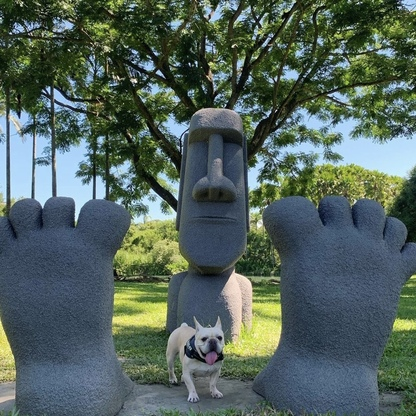bulldog: (163, 312, 226, 403)
